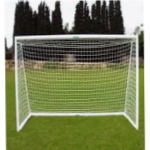goals: (13, 33, 141, 132)
